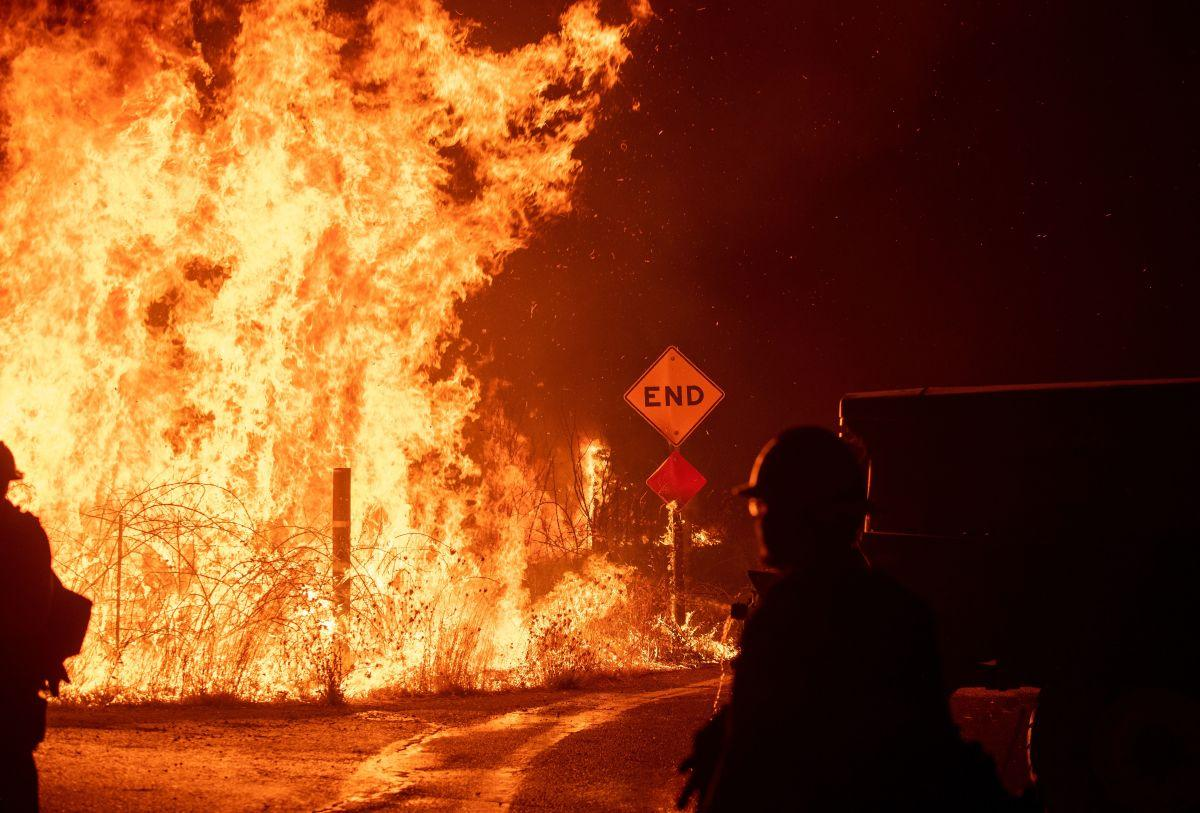Fire: (1, 2, 775, 701)
